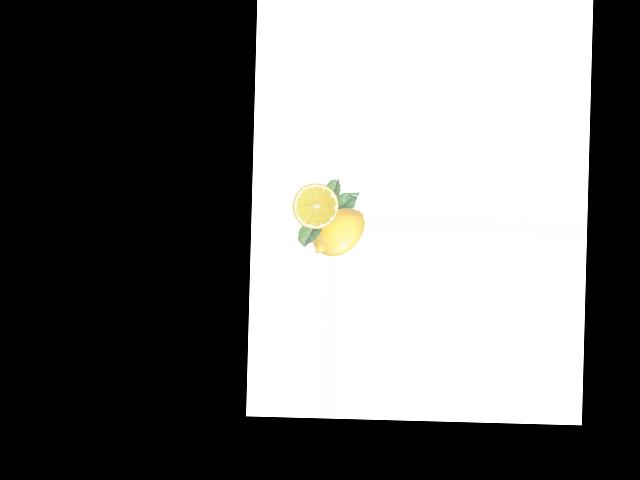lemon: (311, 205, 365, 256)
